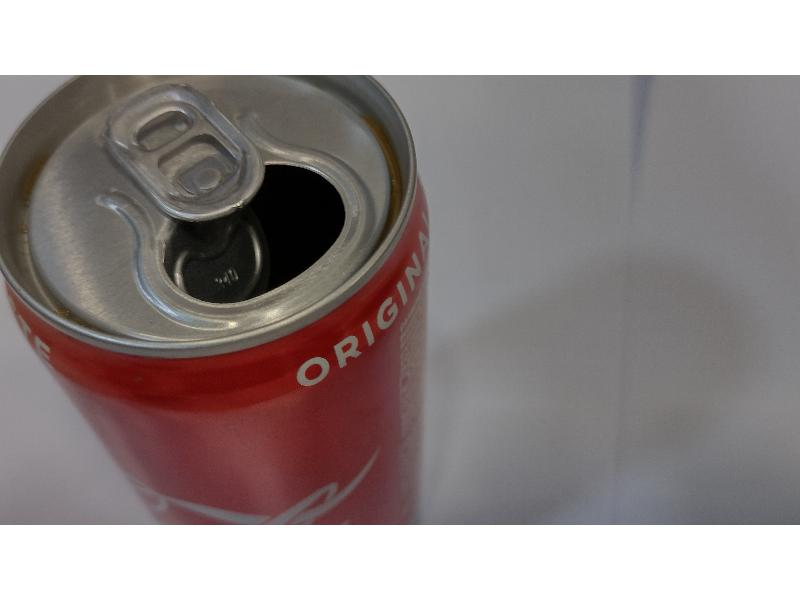can: (1, 71, 446, 526)
